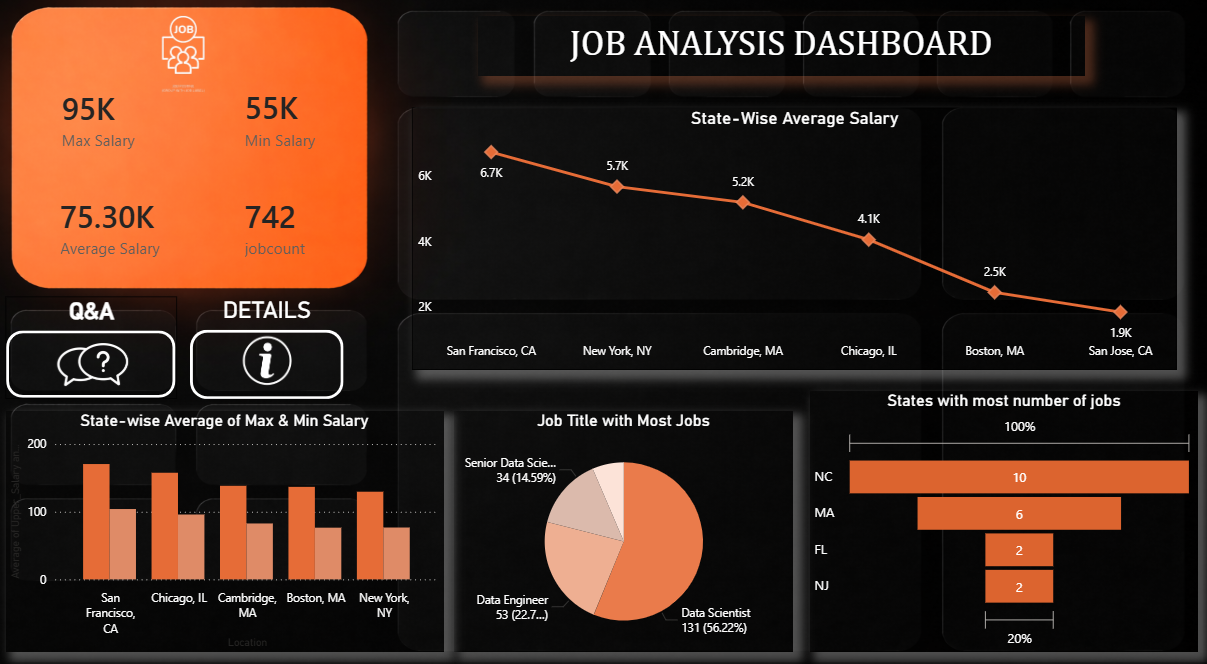

The dashboard page shown, as its layout file describes it:
{"tool":"powerbi","page":{"name":"Page 1","canvas":[1280,720],"ordinal":0},"visuals":[{"type":"funnel","title":"States with most number of jobs","fields":{"Y":["CountNonNull(job_market.Job_Title)"],"Category":["job_market.Job_Location"]},"box":[858.3,425,405,271.7],"z":0},{"type":"lineChart","title":"State-Wise Average Salary","fields":{"Category":["job_market.Location"],"Y":["Sum(job_market.Avg_SalaryK)"]},"box":[443.3,130,796.7,273.3],"z":1000},{"type":"clusteredColumnChart","title":"State-wise Average of Max  & Min Salary","fields":{"Y":["Avg(job_market.Upper_Salary)","Avg(job_market.Lower_Salary)"],"Category":["job_market.Location"]},"box":[20.3,445.5,456.4,251.6],"z":2000},{"type":"image","box":[62.5,0,286,129.7],"z":3000},{"type":"actionButton","title":"Q&A","box":[20,326.7,178.3,106.7],"z":4000},{"type":"actionButton","title":"DETAILS","box":[213.3,326.7,160,106.7],"z":5000},{"type":"pieChart","title":"Job Title with Most Jobs","fields":{"Category":["job_market.Job_Title"],"Y":["job_market.jobcount"]},"box":[487.7,445.5,353.2,251.6],"z":6000},{"type":"image","box":[61.7,371.7,98.3,53.3],"z":7000},{"type":"textbox","box":[513.3,35,631.7,61.7],"z":8000},{"type":"image","box":[206.7,363.3,173.3,61.7],"z":9000},{"type":"cardVisual","fields":{"Data":["Sum(job_market.Avg_SalaryK)"]},"box":[48.5,178.2,164.1,150],"z":10000},{"type":"cardVisual","fields":{"Data":["job_market.jobcount"]},"box":[240.7,103.2,300.1,300.1],"z":11000},{"type":"cardVisual","fields":{"Data":["Sum(job_market.Upper_Salary)"]},"box":[50,65.6,164.1,150],"z":12000},{"type":"cardVisual","fields":{"Data":["Sum(job_market.Lower_Salary)"]},"box":[240.7,73.5,164.1,134.4],"z":13000}]}

Visuals, with their boxes in screenshot pixels (x1, y1, x2, y2), scaled from the page's 1280x720 canvas onto the 1207x664 screenshot:
"States with most number of jobs" funnel: <box>809,392,1191,643</box>
"State-Wise Average Salary" lineChart: <box>418,120,1169,372</box>
"State-wise Average of Max  & Min Salary" clusteredColumnChart: <box>19,411,450,643</box>
image: <box>59,0,329,120</box>
"Q&A" actionButton: <box>19,301,187,400</box>
"DETAILS" actionButton: <box>201,301,352,400</box>
"Job Title with Most Jobs" pieChart: <box>460,411,793,643</box>
image: <box>58,343,151,392</box>
textbox: <box>484,32,1080,89</box>
image: <box>195,335,358,392</box>
cardVisual - Sum(job_market.Avg_SalaryK): <box>46,164,200,303</box>
cardVisual - job_market.jobcount: <box>227,95,510,372</box>
cardVisual - Sum(job_market.Upper_Salary): <box>47,60,202,199</box>
cardVisual - Sum(job_market.Lower_Salary): <box>227,68,382,192</box>
